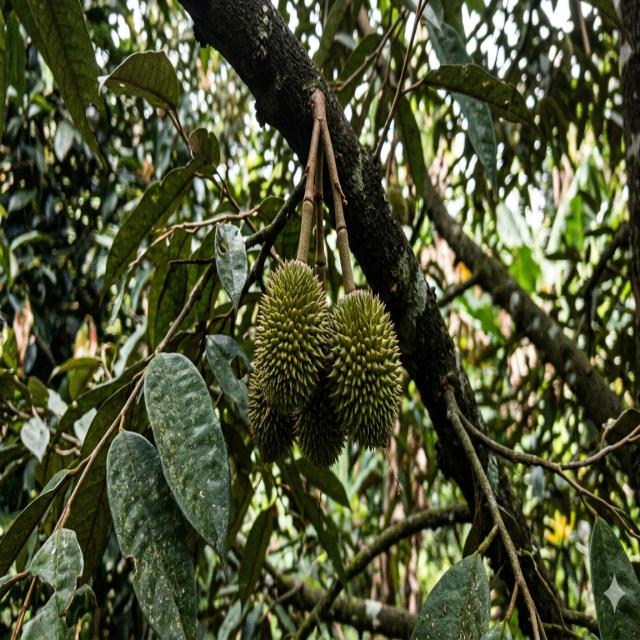immature: (252, 257, 331, 434), (323, 288, 403, 454), (248, 364, 296, 466)
